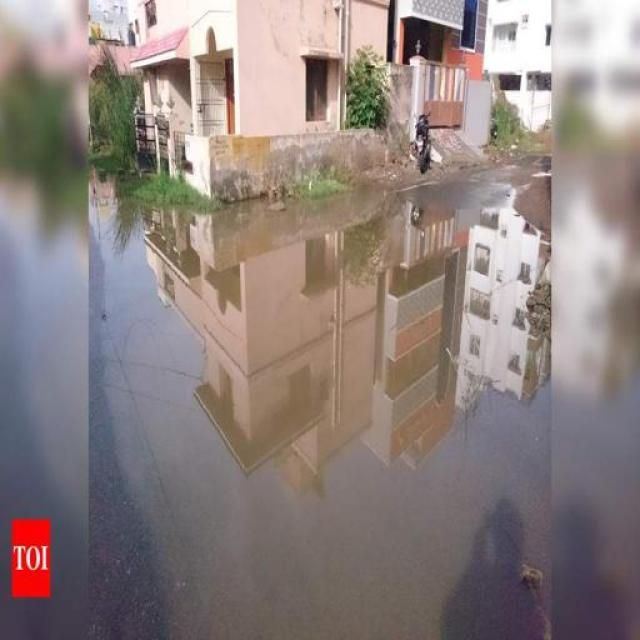puddle: (174, 218, 540, 640), (97, 186, 202, 640)
